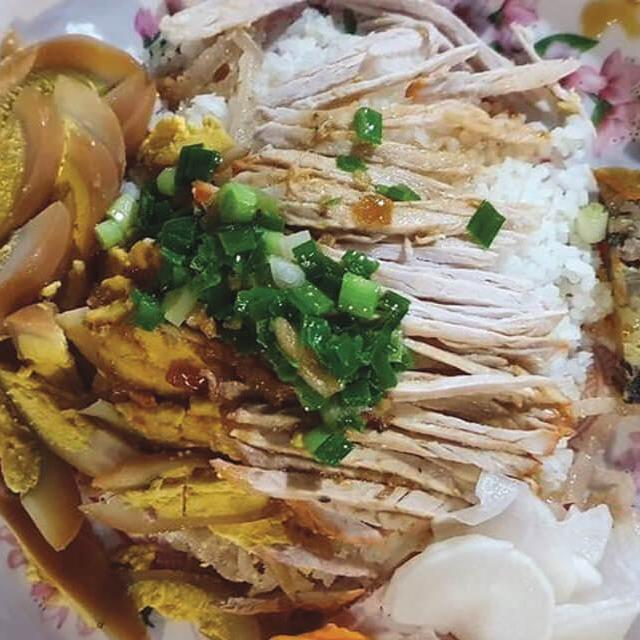bi: (151, 9, 271, 114)
cha: (585, 153, 640, 424)
com: (446, 125, 619, 349), (259, 7, 489, 150)
com suon bi cha trung: (0, 0, 640, 640)
dua chua: (236, 464, 640, 640)
suon: (208, 209, 587, 526), (183, 106, 509, 250)
trung: (0, 233, 282, 540), (0, 29, 162, 351), (0, 463, 166, 640), (43, 537, 272, 640)
